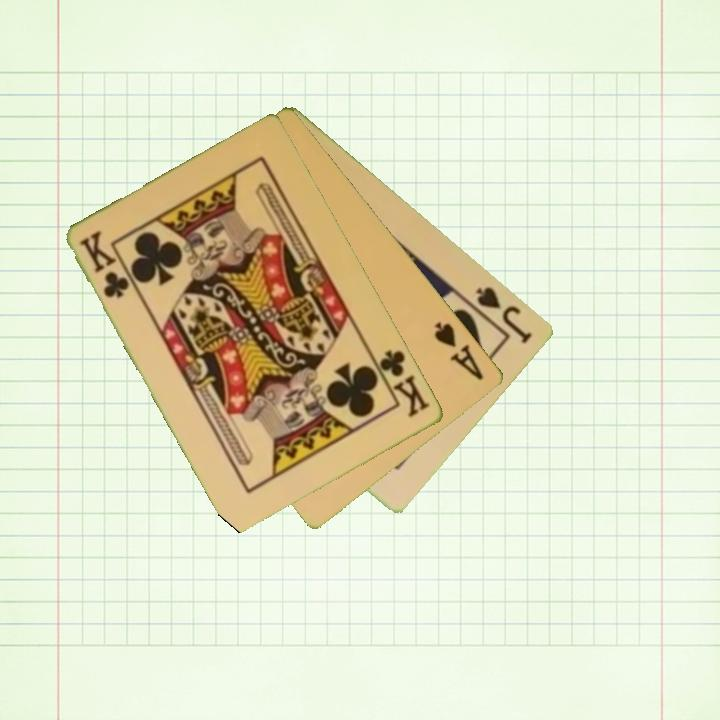As: (431, 318, 487, 384)
Js: (472, 283, 536, 347)
Kc: (369, 346, 434, 421), (76, 227, 133, 301)
